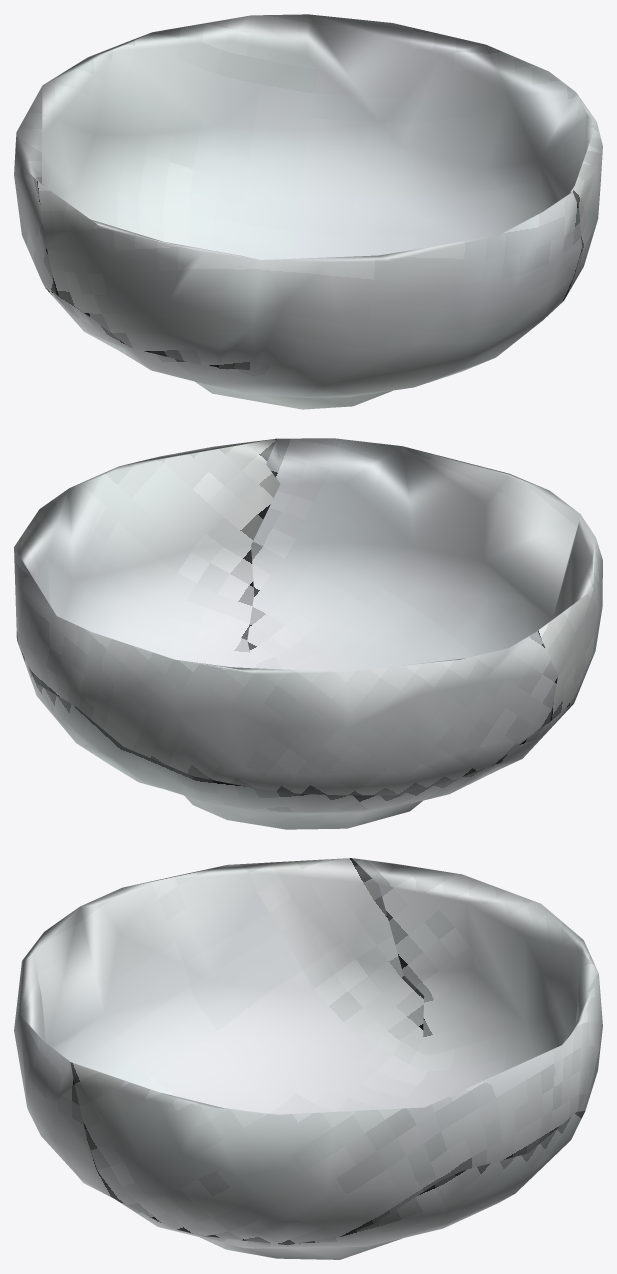
The model's file is Threshold_Bead_Cereal_Bowl_White-low.glb.
The picture shows the model from 3 angles, top to bottom: view 1: azimuth 30°, elevation 25°; view 2: azimuth 150°, elevation 25°; view 3: azimuth 270°, elevation 25°; orthographic projection.
Parts seen in each view (by area): view 1: Threshold_Bead_Cereal_Bowl_White; view 2: Threshold_Bead_Cereal_Bowl_White; view 3: Threshold_Bead_Cereal_Bowl_White.
Boxes of the visible parts, x1,y1,x2,y2 form: Threshold_Bead_Cereal_Bowl_White: [14, 14, 602, 409]; Threshold_Bead_Cereal_Bowl_White: [14, 438, 602, 829]; Threshold_Bead_Cereal_Bowl_White: [14, 858, 602, 1259].
Bounding box in the file's own units: 0.1685 × 0.0702 × 0.1657.
1 material, 1 textured.
